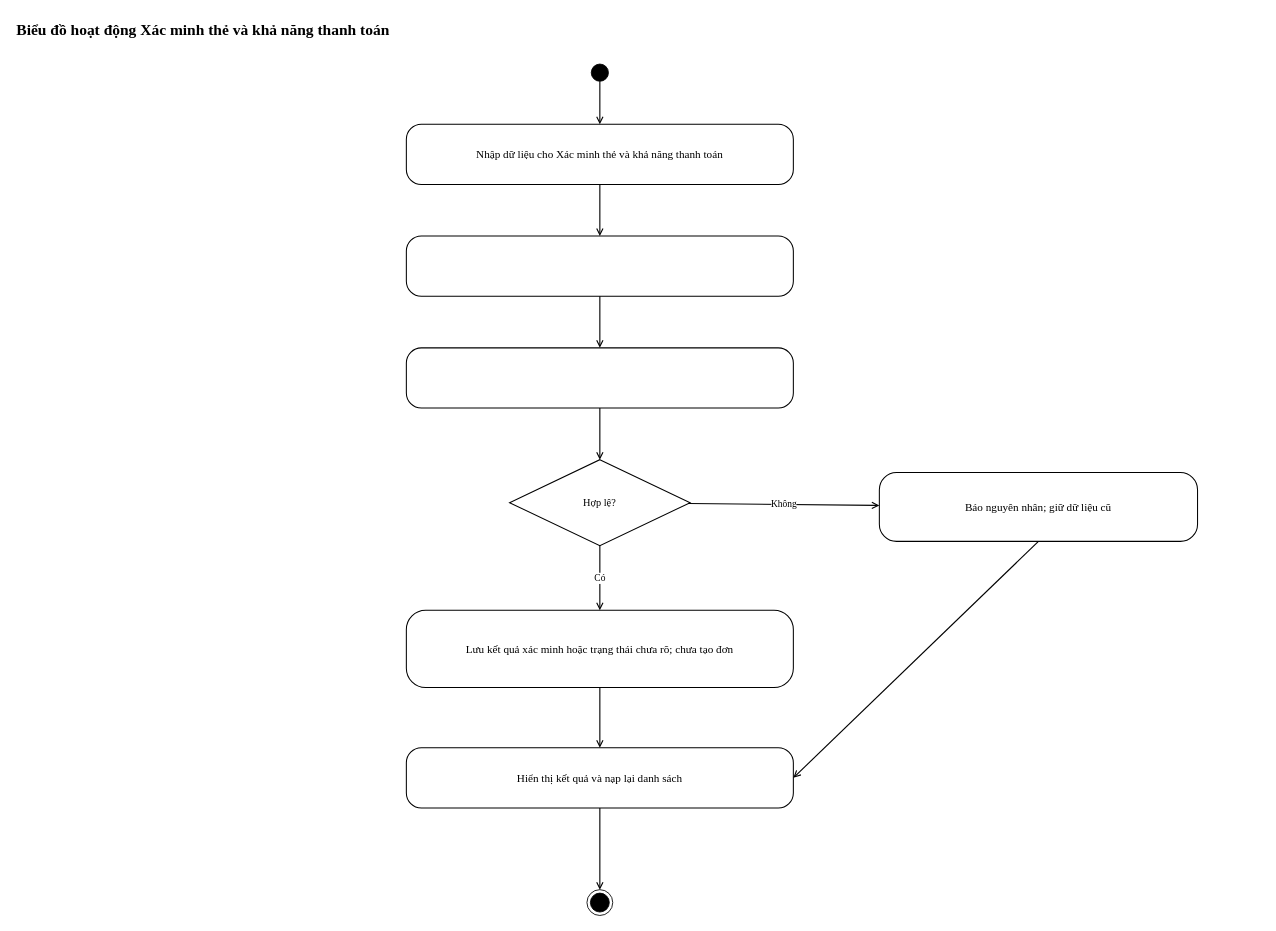
Image size: 1276x931. Some labels were removed from this diagram. The shapes that lost their labels are listed below. From the top down, each one's box as (x1, y1, x2, y2) in pixels, then its label:
(405, 235, 793, 296): TrangThanhToan gọi XacMinh
(405, 347, 793, 408): Kiểm tra vai trò và điều kiện nghiệp vụ
